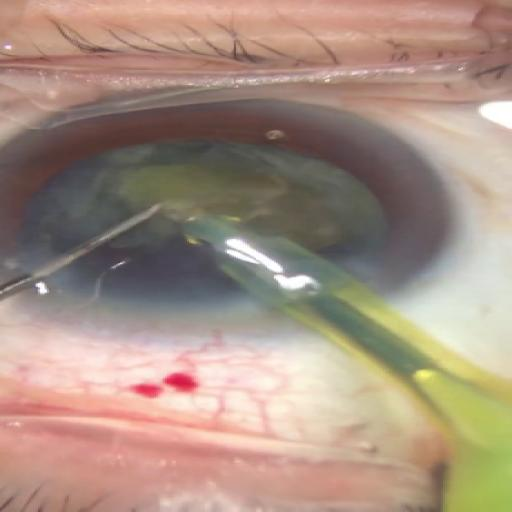catarata: (45, 143, 371, 320)
cornea: (0, 98, 451, 335)
pupil: (23, 140, 384, 325)
